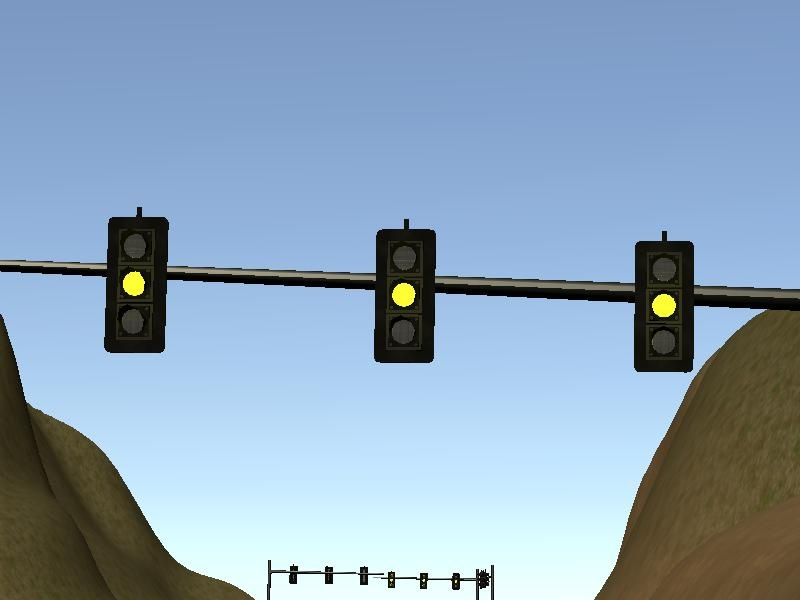YELLOW: (370, 219, 438, 366), (628, 230, 696, 377), (104, 207, 172, 354)
